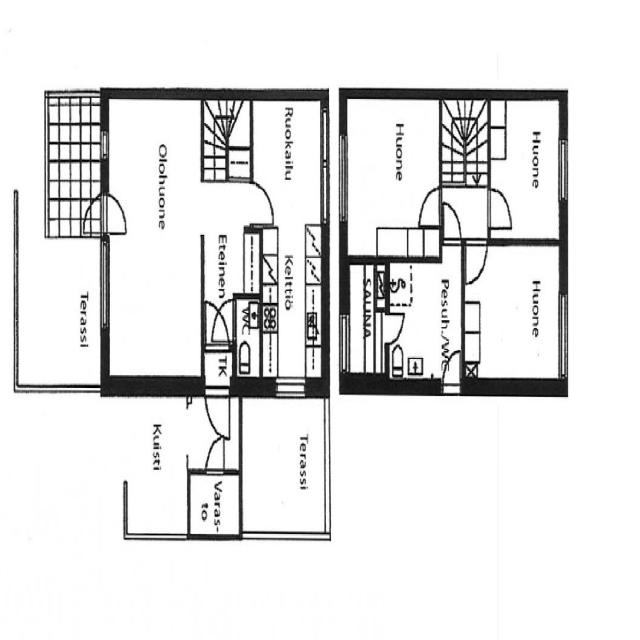door: (200, 166, 274, 296), (245, 177, 278, 230), (202, 383, 232, 440), (484, 182, 516, 235), (203, 297, 234, 350), (461, 234, 489, 288), (415, 180, 444, 230), (101, 190, 129, 238), (381, 306, 408, 350), (439, 200, 463, 245), (440, 346, 464, 391), (204, 434, 228, 477)
window: (318, 104, 333, 229), (334, 126, 350, 227), (98, 233, 112, 337), (556, 286, 570, 381), (272, 374, 310, 402), (337, 308, 351, 378), (557, 134, 569, 209), (101, 126, 110, 164)
zone: (103, 101, 203, 384), (252, 98, 322, 388), (342, 93, 442, 260), (461, 239, 562, 385), (488, 99, 562, 240), (386, 257, 463, 382), (202, 178, 259, 310), (346, 258, 382, 381), (189, 471, 240, 537), (204, 294, 249, 363), (235, 295, 260, 380)
